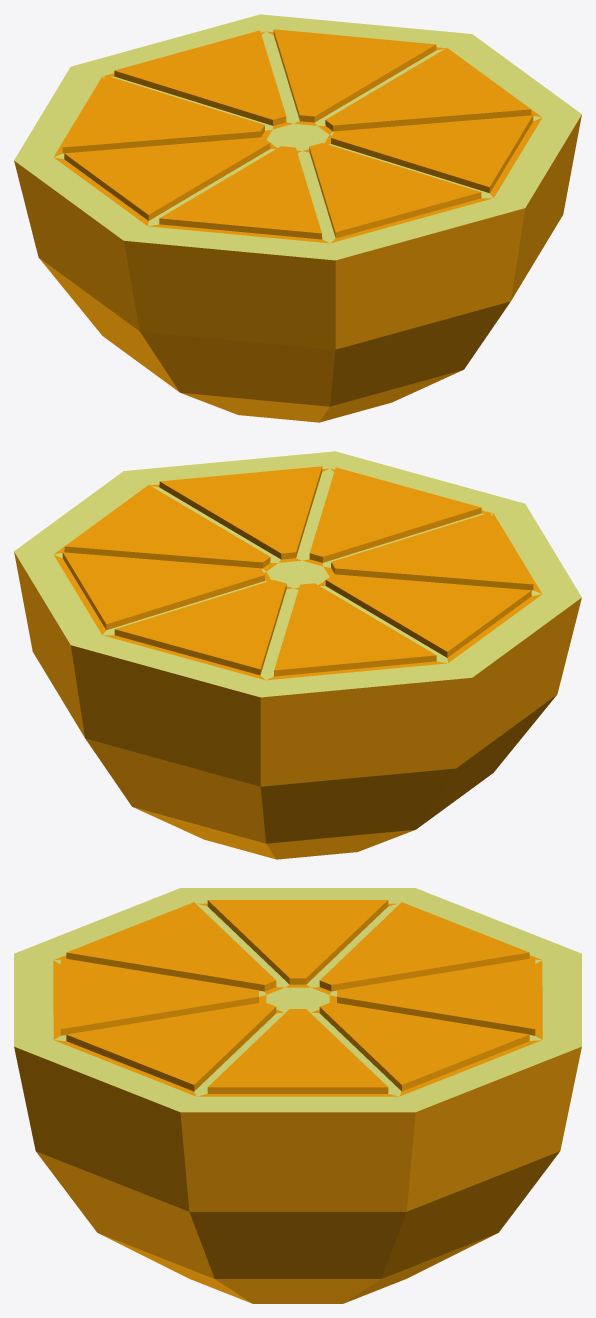
File: orange.fbx
The picture shows the model from 3 angles, top to bottom: view 1: azimuth 30°, elevation 25°; view 2: azimuth 150°, elevation 25°; view 3: azimuth 270°, elevation 25°; orthographic projection. The views are drawn at different scales.
Visible parts, largest first — view 1: HOrange; view 2: HOrange; view 3: HOrange.
Boxes of the visible parts, box(x1,y1,x2,y2) form: HOrange: box(14, 14, 581, 422); HOrange: box(14, 451, 581, 859); HOrange: box(14, 888, 581, 1303).
Bounding box in the file's own units: 0.6499 × 0.3665 × 0.6502.
